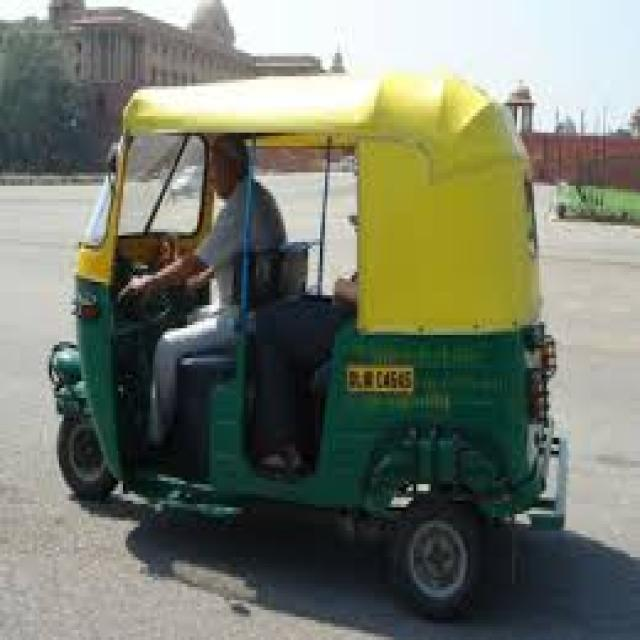bus: (386, 169, 564, 447)
person: (14, 336, 86, 560)
